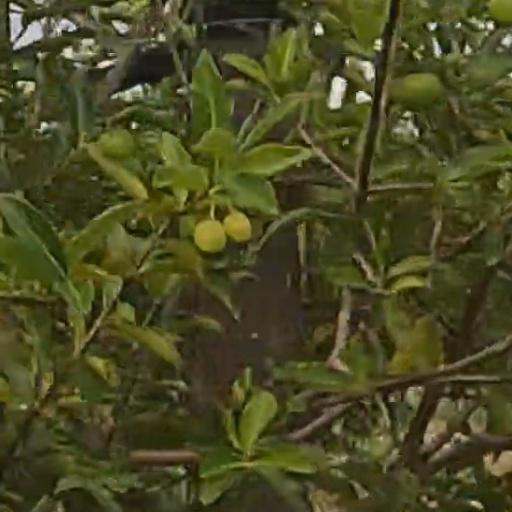acerola_verde: (227, 208, 263, 241), (102, 130, 137, 158), (195, 221, 224, 252)
